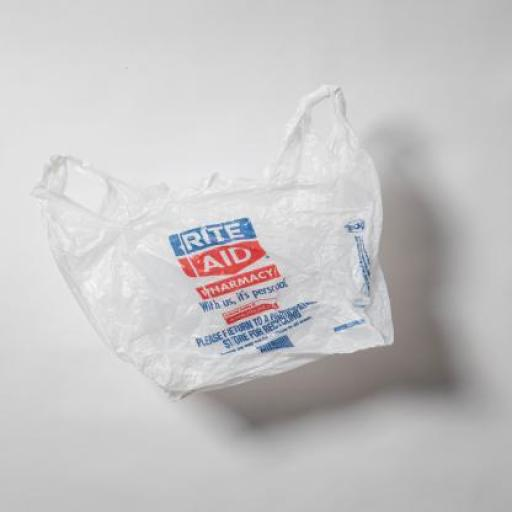plastic bag: (33, 80, 401, 406)
